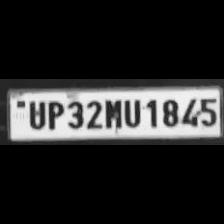1: (141, 96, 159, 128)
2: (83, 97, 103, 128)
3: (64, 97, 82, 128)
4: (179, 96, 199, 127)
5: (196, 95, 220, 127)
8: (158, 96, 180, 128)
M: (102, 97, 122, 129)
P: (44, 98, 64, 130)
U: (24, 98, 46, 130), (122, 96, 142, 128)
